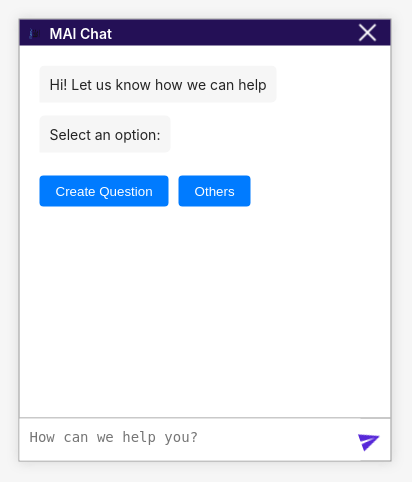
ChatWindow component › should render incoming and outgoing messages
In the text box with placeholder "How can we help you?": (190, 440) [20, 418, 360, 460], type "Hello"
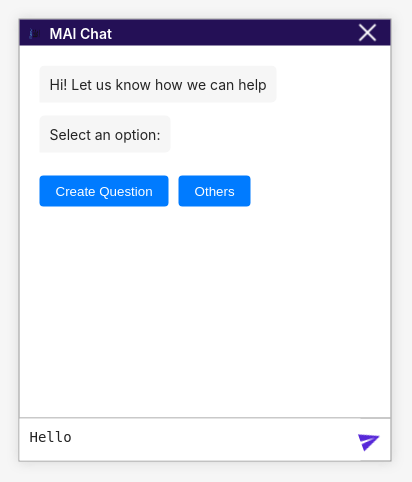
Click the button named "send button": click(370, 439) [354, 416, 387, 463]
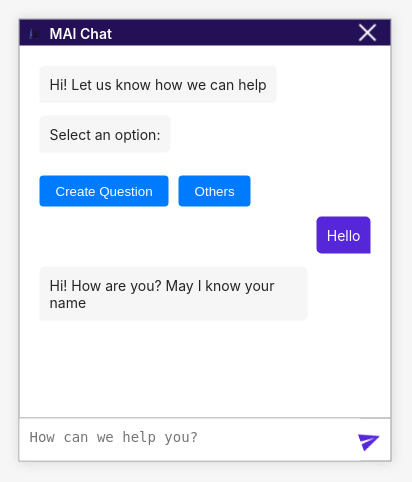
Expected: the heading named "Chat header" shows "Chat", [50, 24, 112, 42]
Expected: the text "Hello" is shown, [317, 216, 371, 254]
Expected: the text "Hi! How are you? May I know your name" is shown, [40, 266, 308, 320]
